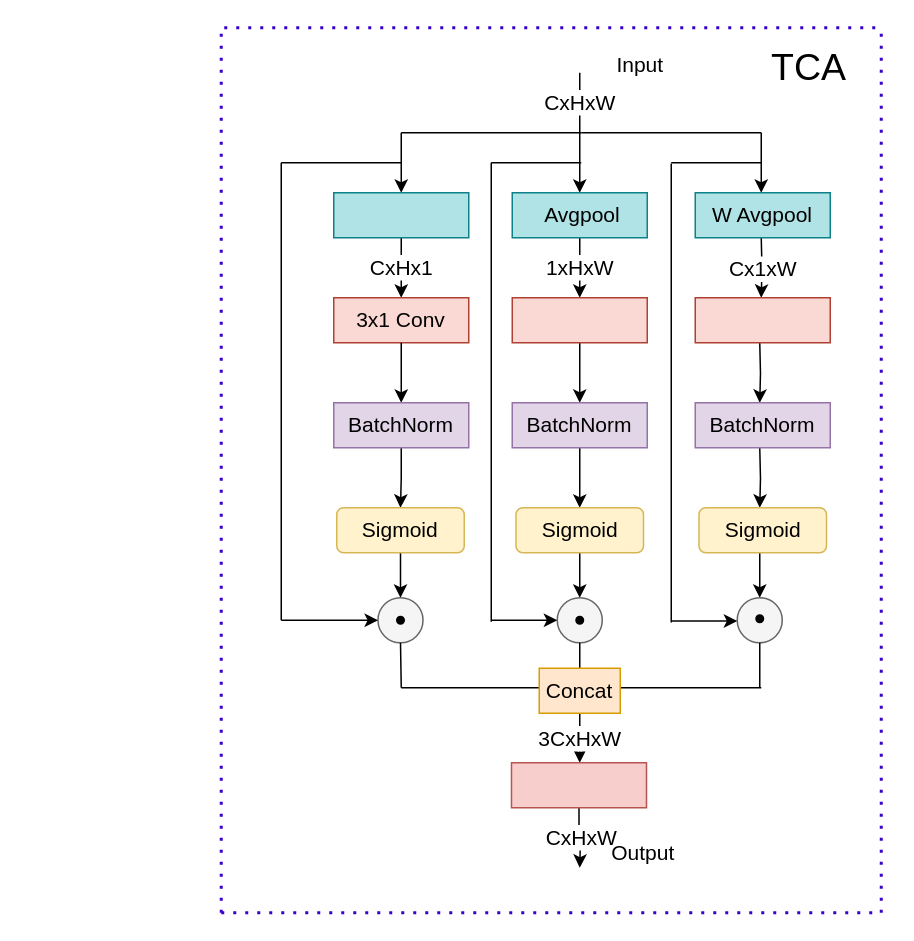
This 914x941 diagram has some shape labels left out. Here are the shapes that lost their labels. From the top down, the centre of each, then its label:
At pixel 400 214: "H Avgpool".
At pixel 579 319: "3x3 Conv".
At pixel 762 319: "1x3 Conv".
At pixel 578 784: "1x1 Conv".
